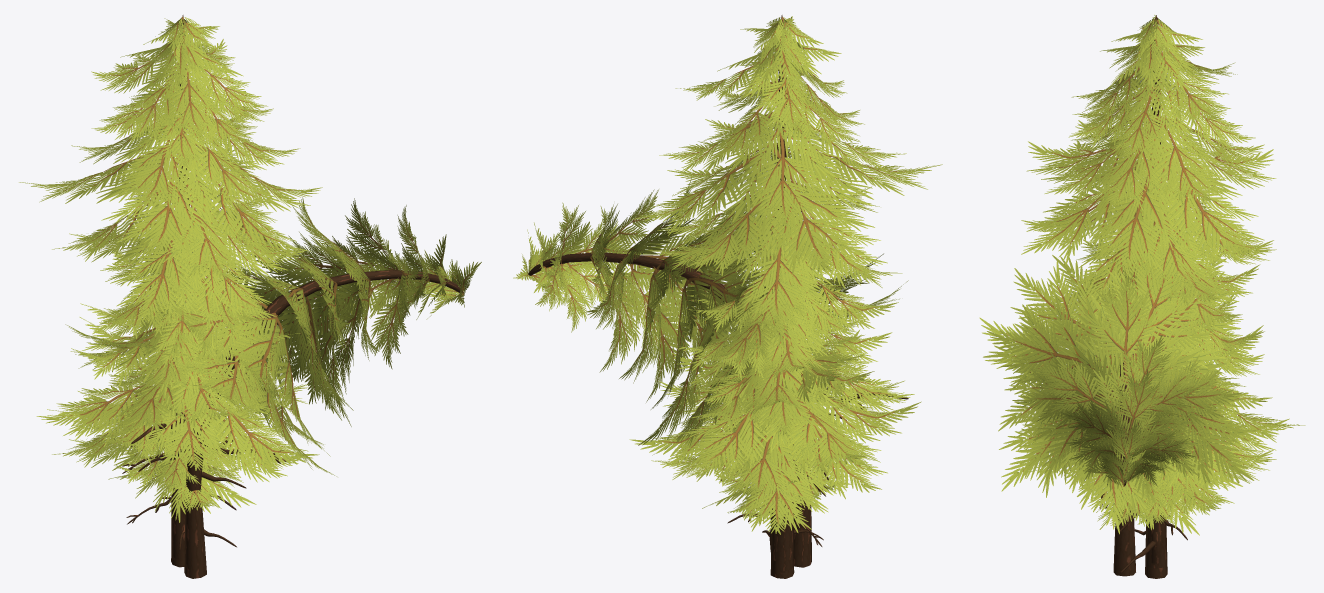
File: pine-trees.glb
The picture shows the model from 3 angles, left to right: view 1: azimuth 30°, elevation 25°; view 2: azimuth 150°, elevation 25°; view 3: azimuth 270°, elevation 25°; orthographic projection. The views are drawn at different scales.
Parts seen in each view (by area): view 1: PineTree_2, PineTree_4, PineTree_5, PineTree_1, PineTree_3; view 2: PineTree_2, PineTree_4, PineTree_1, PineTree_5, PineTree_3; view 3: PineTree_4, PineTree_2, PineTree_5, PineTree_1, PineTree_3.
Boxes of the visible parts, bbox=[...] form: PineTree_2: bbox=[19, 15, 322, 561]; PineTree_4: bbox=[65, 196, 481, 578]; PineTree_5: bbox=[36, 232, 308, 522]; PineTree_1: bbox=[47, 216, 319, 567]; PineTree_3: bbox=[114, 388, 245, 550]; PineTree_2: bbox=[632, 15, 942, 577]; PineTree_4: bbox=[513, 178, 908, 567]; PineTree_1: bbox=[629, 217, 921, 578]; PineTree_5: bbox=[651, 238, 914, 534]; PineTree_3: bbox=[715, 427, 848, 551]; PineTree_4: bbox=[979, 237, 1258, 576]; PineTree_2: bbox=[1021, 15, 1276, 578]; PineTree_5: bbox=[1020, 246, 1305, 536]; PineTree_1: bbox=[1027, 221, 1289, 568]; PineTree_3: bbox=[1084, 461, 1224, 572].
Bounding box in the file's own units: 5.22 × 6.91 × 3.74.
2 materials, 2 textured.
